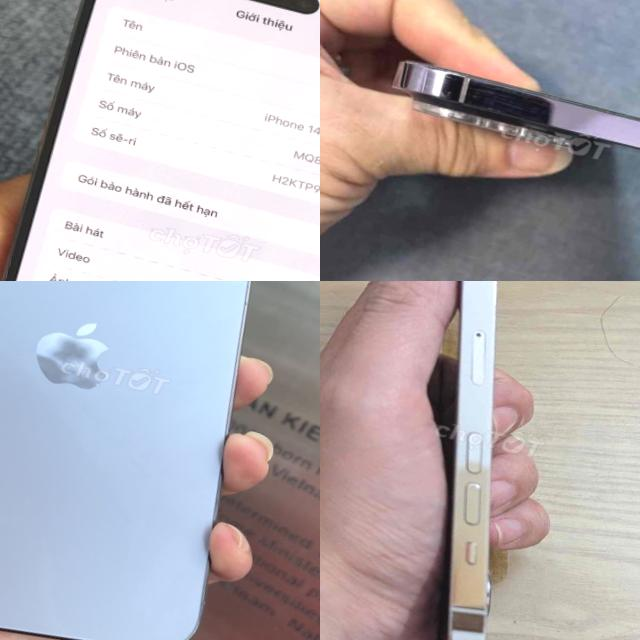scratch: (411, 62, 529, 116)
